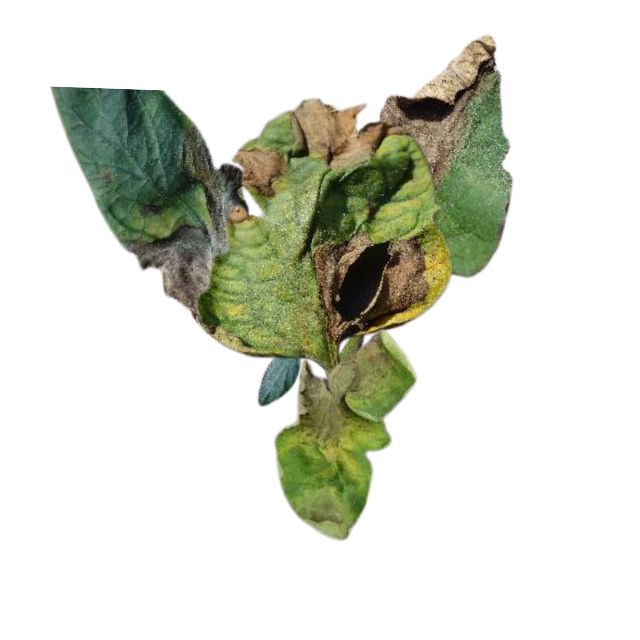Late_blight: (377, 34, 498, 189), (310, 229, 430, 343), (295, 330, 391, 458), (123, 225, 216, 324), (181, 126, 251, 252), (289, 99, 407, 170), (285, 480, 355, 542), (231, 144, 289, 199)
